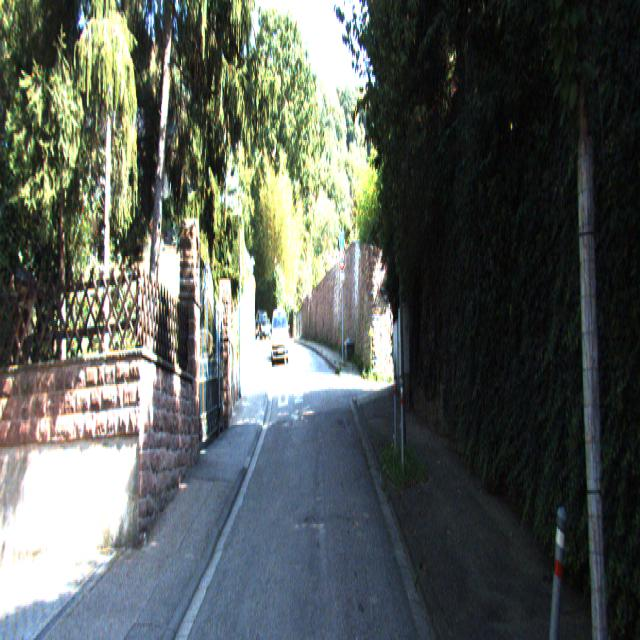Car: (271, 307, 289, 367), (256, 310, 272, 344)
